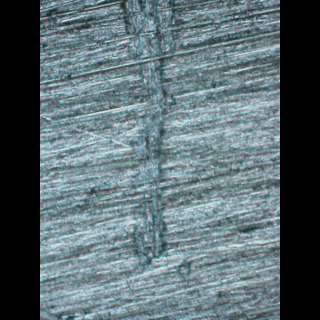d: (117, 0, 177, 265)
